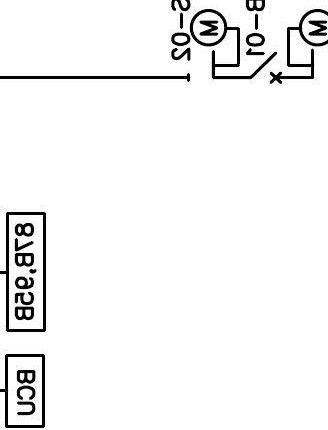115_1way_ds_w_motor: (186, 8, 240, 82)
115_breaker: (249, 51, 283, 85)
BCU: (4, 353, 46, 429)
